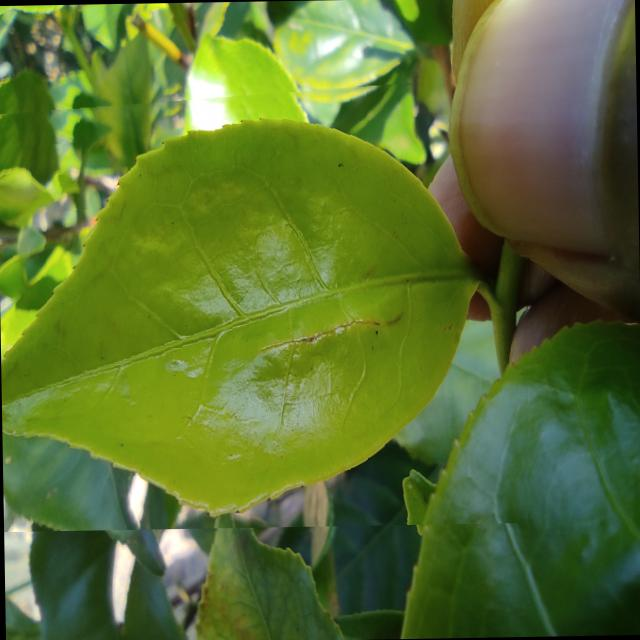Category C(4-7 days): (0, 73, 534, 531)
